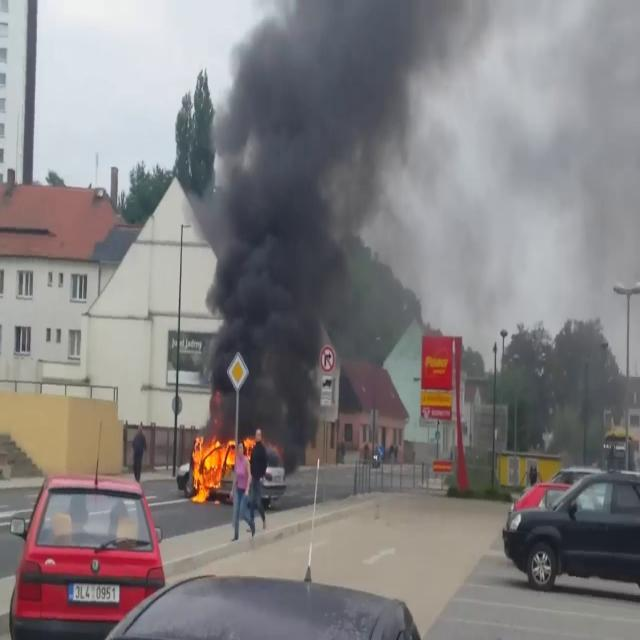Fire: (189, 427, 243, 501)
Smoke: (193, 0, 462, 393)
